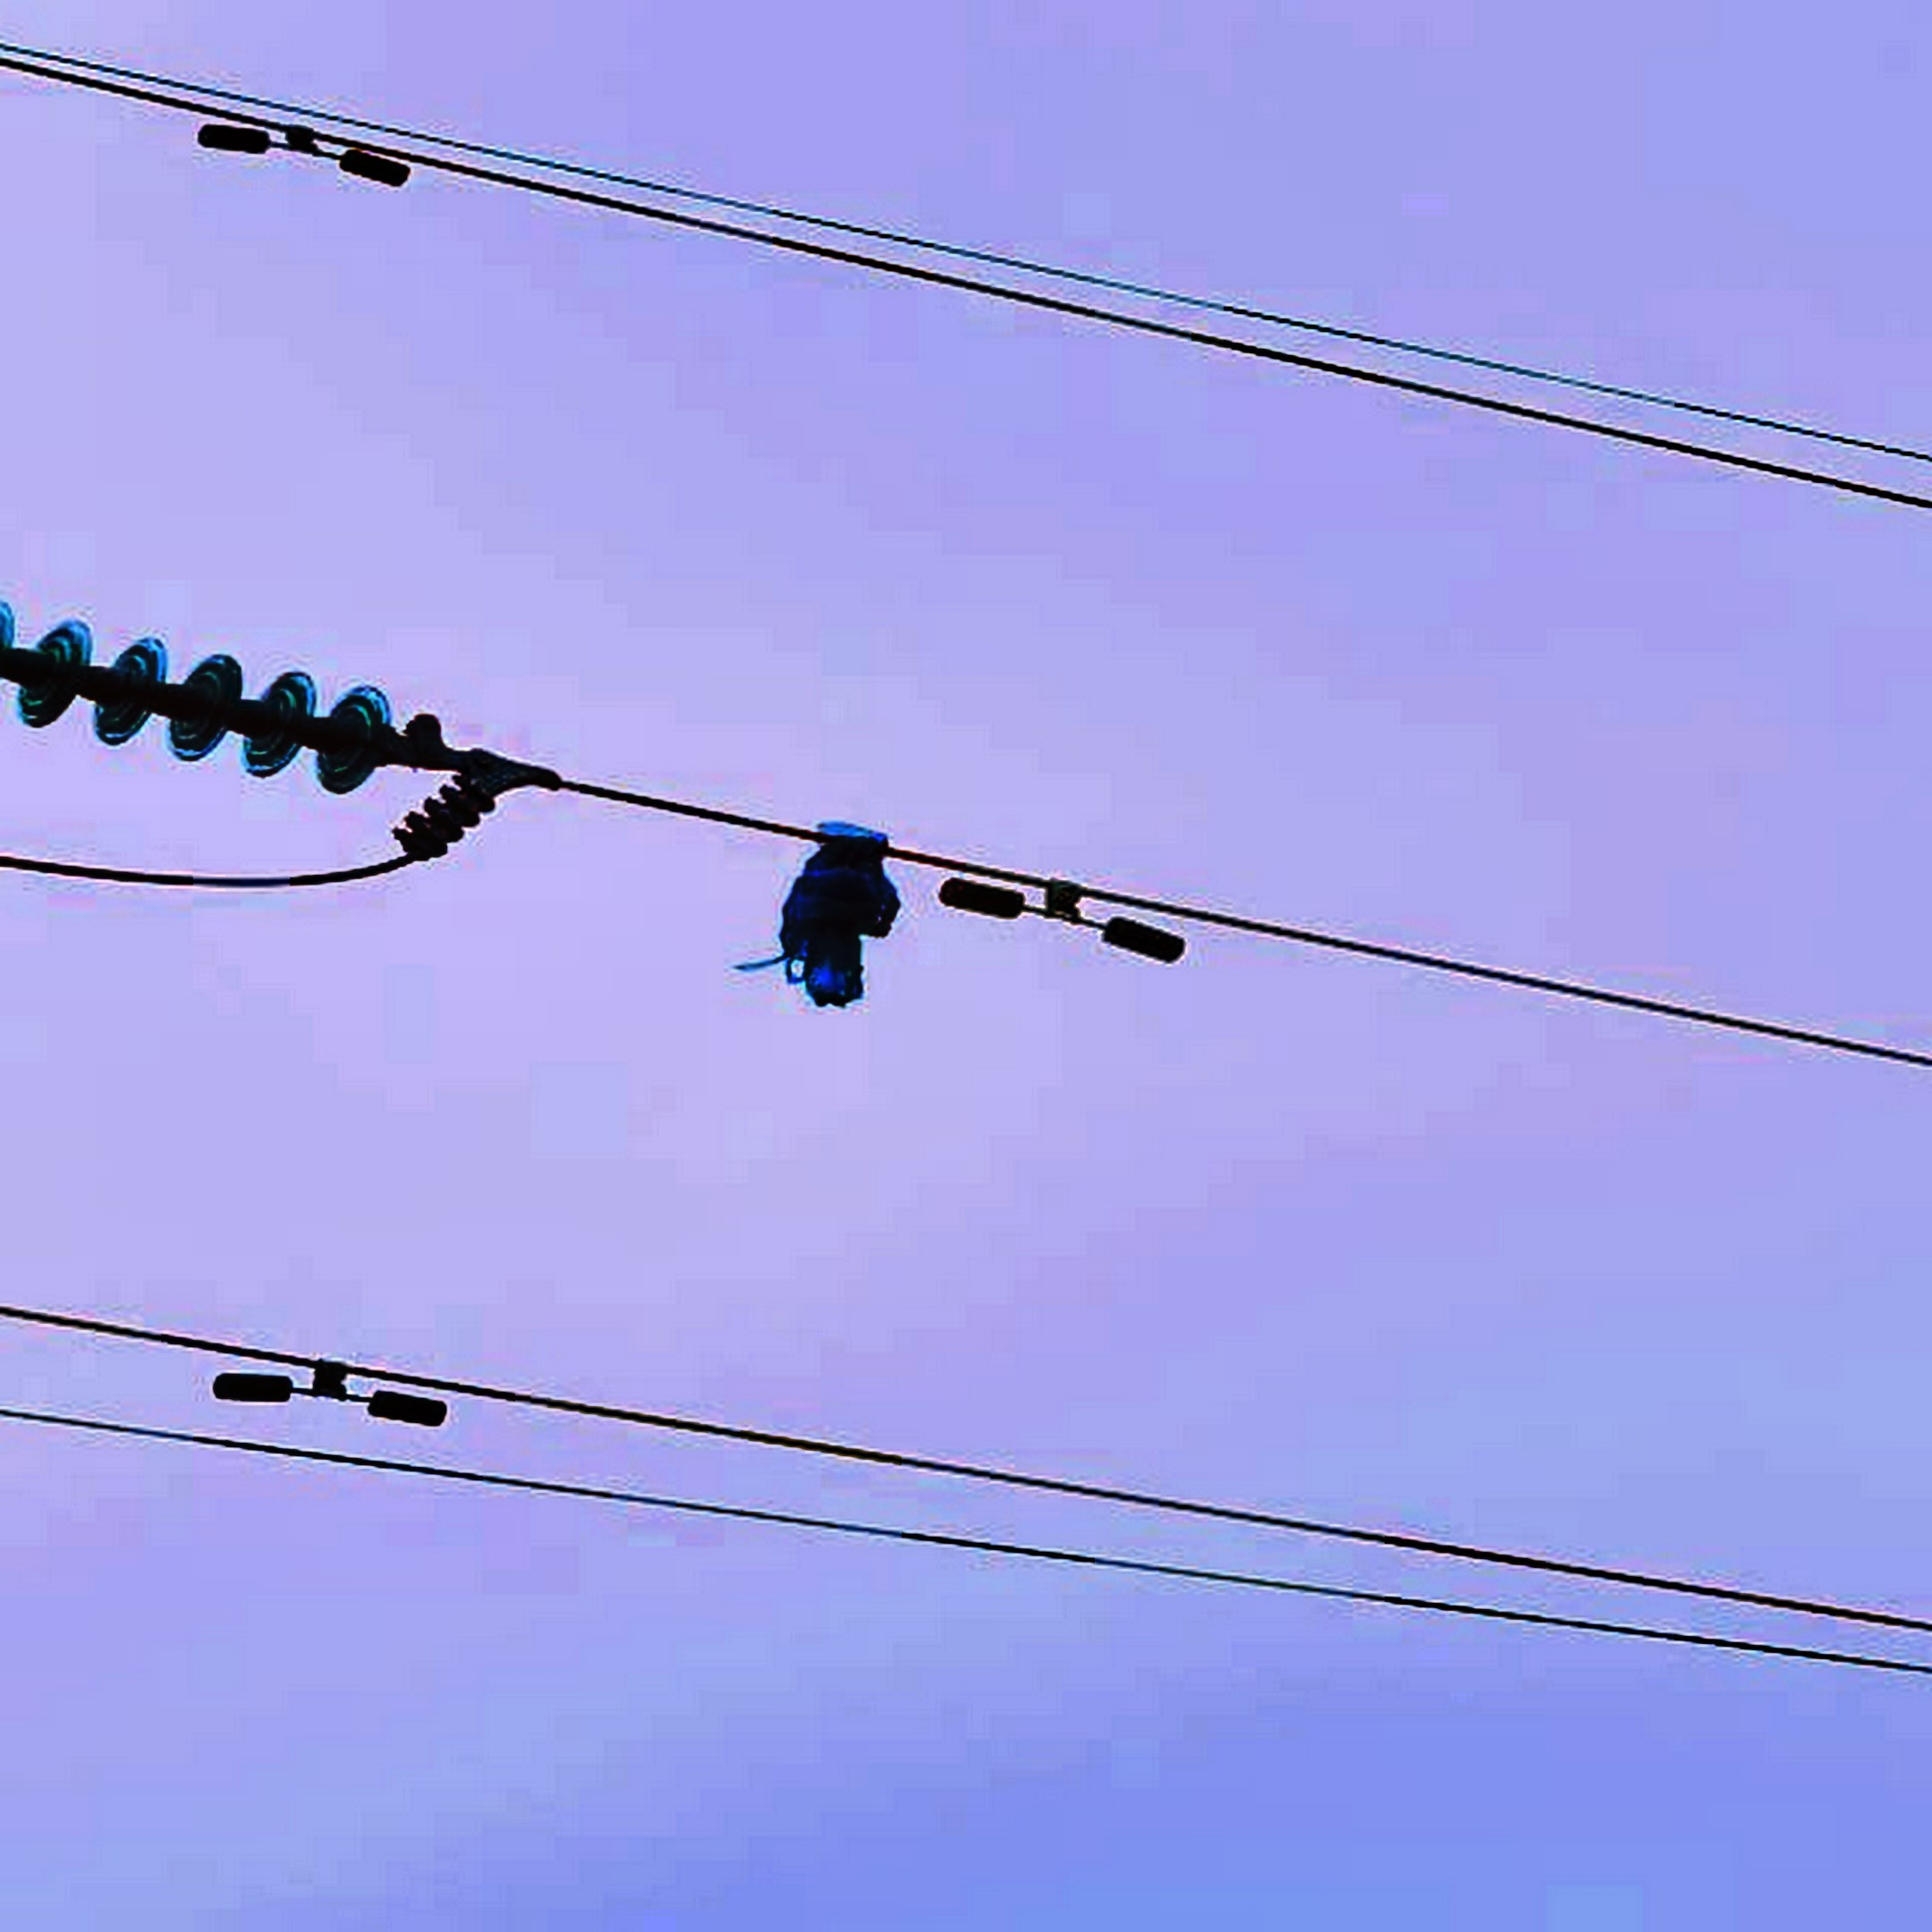wire foreign body: (748, 810, 938, 1033)
